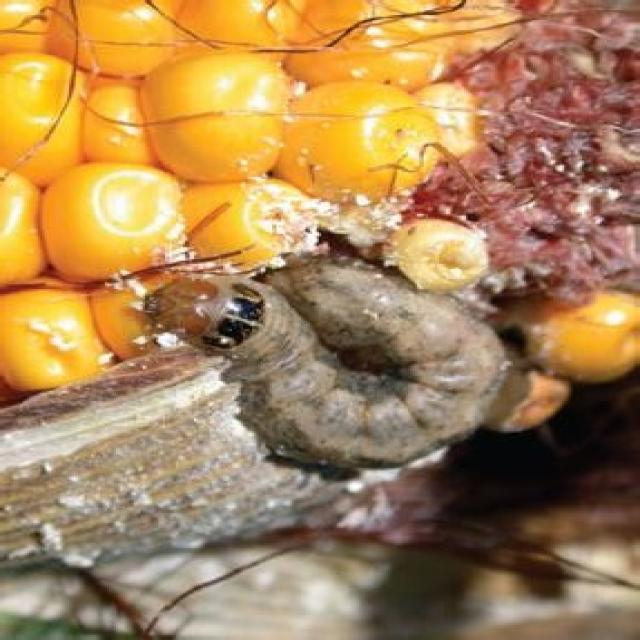black cutworm: (155, 254, 516, 478)
